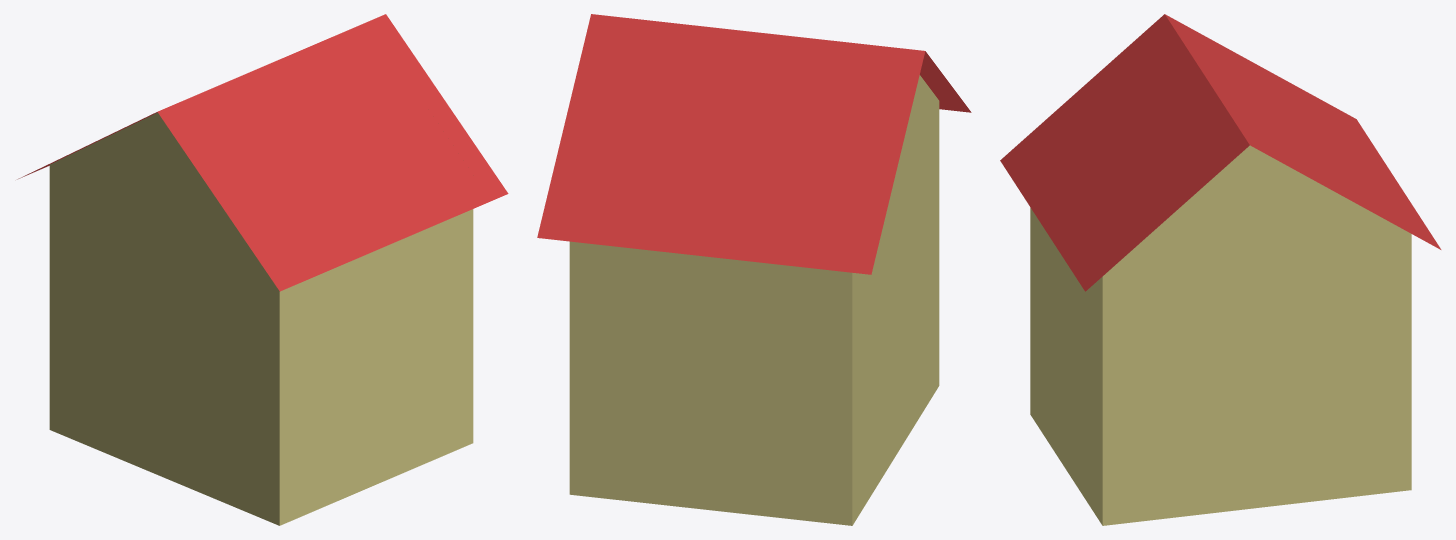
3 views of the same model, side by side, from view 1: azimuth 30°, elevation 25°; view 2: azimuth 150°, elevation 25°; view 3: azimuth 270°, elevation 25° (orthographic). The views are drawn at different scales.
Bounding box in the file's own units: 8.26 × 8.93 × 8.35.
